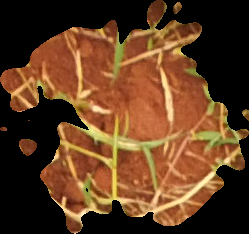soil: (2, 2, 248, 231)
